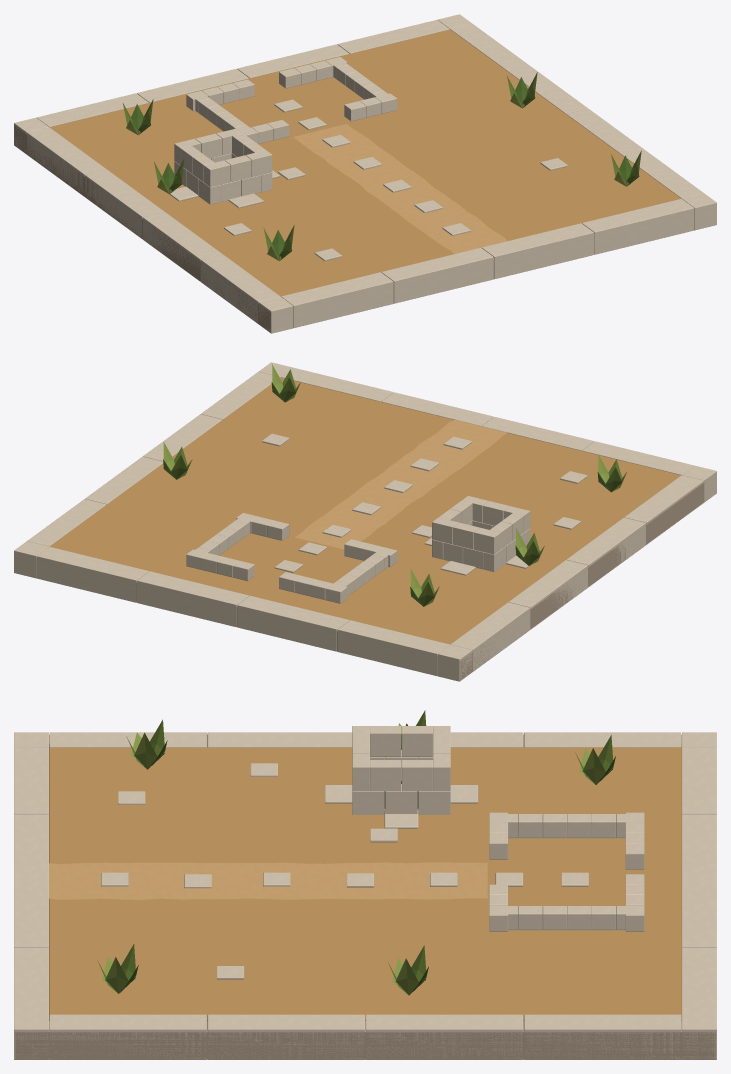
Rendered from city-1.glb.
The picture shows the model from 3 angles, top to bottom: view 1: azimuth 30°, elevation 25°; view 2: azimuth 150°, elevation 25°; view 3: azimuth 270°, elevation 25°; orthographic projection. The views are drawn at different scales.
Visible parts, largest first — view 1: SM_CT1_V4_Batch_1.002, SM_CT1_V4_Batch_10.002, SM_CT1_V4_Batch_2.002, SM_CT1_V4_Batch_6.002, SM_CT1_V4_Batch_11.002, SM_CT1_V4_Batch_0.002, SM_CT1_V4_Batch_3.002, SM_CT1_V4_Batch_8.002, SM_CT1_V4_Batch_7.002, SM_CT1_V4_Batch_9.002, SM_CT1_V4_Batch_5.002; view 2: SM_CT1_V4_Batch_1.002, SM_CT1_V4_Batch_10.002, SM_CT1_V4_Batch_2.002, SM_CT1_V4_Batch_6.002, SM_CT1_V4_Batch_11.002, SM_CT1_V4_Batch_0.002, SM_CT1_V4_Batch_3.002, SM_CT1_V4_Batch_7.002, SM_CT1_V4_Batch_8.002, SM_CT1_V4_Batch_5.002; view 3: SM_CT1_V4_Batch_1.002, SM_CT1_V4_Batch_10.002, SM_CT1_V4_Batch_0.002, SM_CT1_V4_Batch_2.002, SM_CT1_V4_Batch_6.002, SM_CT1_V4_Batch_11.002, SM_CT1_V4_Batch_3.002, SM_CT1_V4_Batch_8.002, SM_CT1_V4_Batch_7.002, SM_CT1_V4_Batch_5.002.
Boxes of the visible parts, x1,y1,x2,y2 form: SM_CT1_V4_Batch_1.002: (50,29,681,296); SM_CT1_V4_Batch_10.002: (14,14,716,333); SM_CT1_V4_Batch_2.002: (293,124,506,253); SM_CT1_V4_Batch_6.002: (186,57,397,143); SM_CT1_V4_Batch_11.002: (174,128,272,204); SM_CT1_V4_Batch_0.002: (14,126,694,332); SM_CT1_V4_Batch_3.002: (224,99,567,261); SM_CT1_V4_Batch_8.002: (126,72,641,261); SM_CT1_V4_Batch_7.002: (122,75,639,260); SM_CT1_V4_Batch_9.002: (131,77,631,254); SM_CT1_V4_Batch_5.002: (169,170,279,208); SM_CT1_V4_Batch_1.002: (49,377,680,644); SM_CT1_V4_Batch_10.002: (14,362,716,681); SM_CT1_V4_Batch_2.002: (295,420,507,549); SM_CT1_V4_Batch_6.002: (186,513,397,603); SM_CT1_V4_Batch_11.002: (432,496,530,571); SM_CT1_V4_Batch_0.002: (36,482,704,680); SM_CT1_V4_Batch_3.002: (262,433,587,572); SM_CT1_V4_Batch_7.002: (171,369,621,606); SM_CT1_V4_Batch_8.002: (163,364,626,606); SM_CT1_V4_Batch_5.002: (424,538,528,575); SM_CT1_V4_Batch_1.002: (49,743,681,1020); SM_CT1_V4_Batch_10.002: (14,732,716,1059); SM_CT1_V4_Batch_0.002: (15,734,715,1059); SM_CT1_V4_Batch_2.002: (49,862,487,899); SM_CT1_V4_Batch_6.002: (489,812,644,931); SM_CT1_V4_Batch_11.002: (352,726,450,814); SM_CT1_V4_Batch_3.002: (101,763,588,979); SM_CT1_V4_Batch_8.002: (102,723,605,995); SM_CT1_V4_Batch_7.002: (97,710,613,994); SM_CT1_V4_Batch_5.002: (325,785,478,828).
Bounding box in the file's own units: 10 × 1.24 × 10.
Materials: 8 (3 with a texture image).
